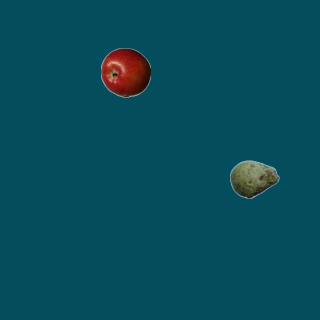Apple Braeburn: (100, 47, 150, 97)
Pear Stone: (229, 154, 279, 204)
